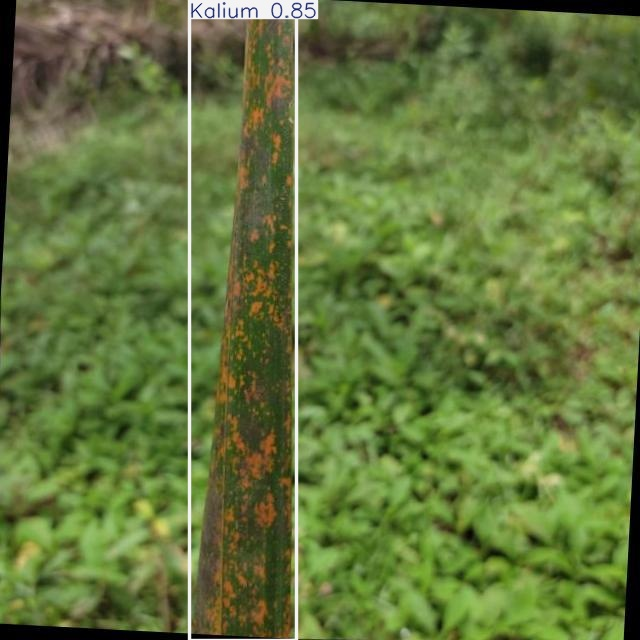Kalium: (189, 0, 296, 640)
